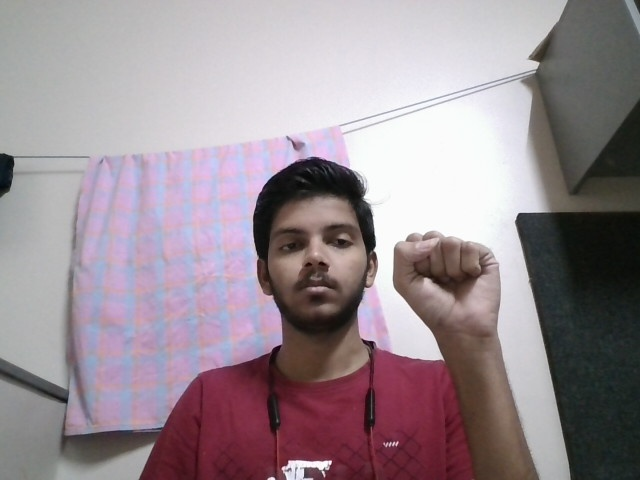No: (387, 227, 515, 334)
